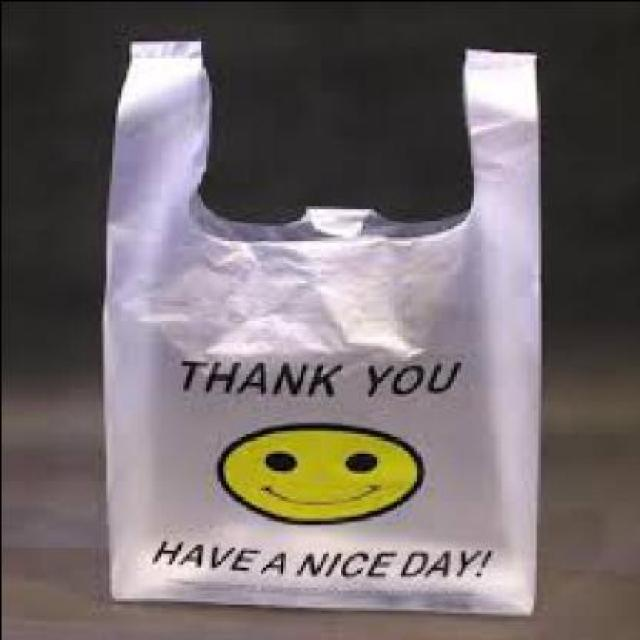PLASTIC: (97, 34, 537, 612)
